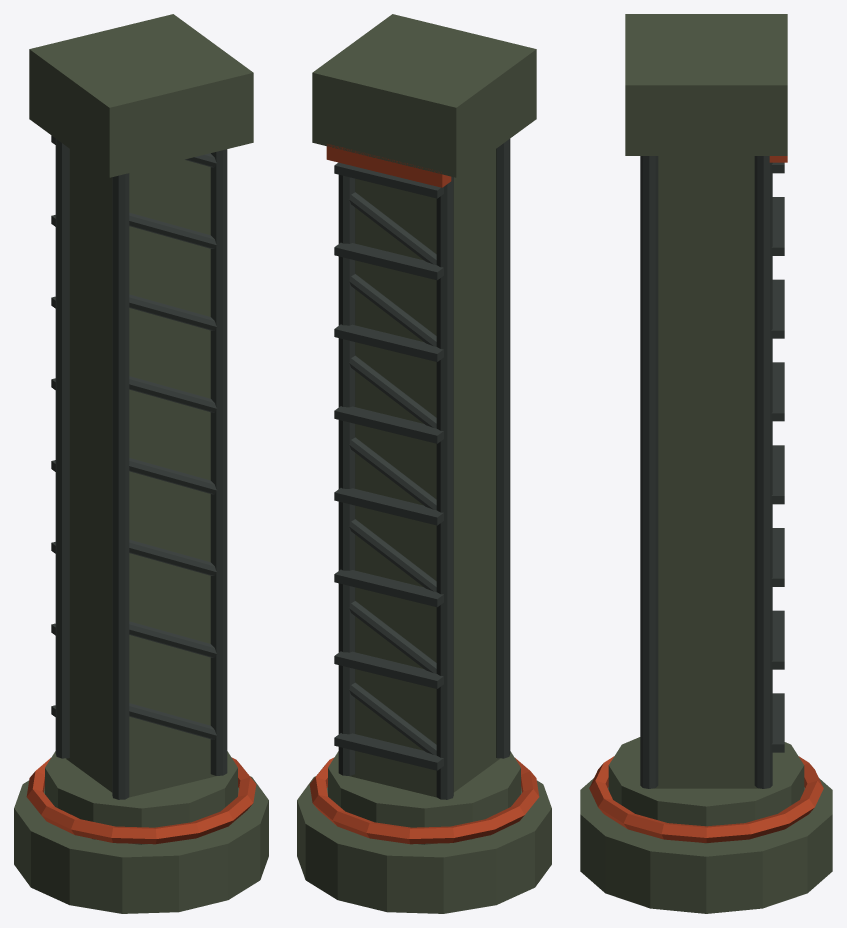
Rendered from Bastion_FabricationHub_CraneYaw.obj.
The picture shows the model from 3 angles, left to right: view 1: azimuth 30°, elevation 25°; view 2: azimuth 150°, elevation 25°; view 3: azimuth 270°, elevation 25°; orthographic projection.
Visible parts, largest first — view 1: Bastion_FabricationHub_CraneYaw; view 2: Bastion_FabricationHub_CraneYaw; view 3: Bastion_FabricationHub_CraneYaw.
Boxes of the visible parts, x1,y1,x2,y2 form: Bastion_FabricationHub_CraneYaw: (14, 14, 268, 913); Bastion_FabricationHub_CraneYaw: (297, 14, 551, 913); Bastion_FabricationHub_CraneYaw: (580, 14, 832, 913).
Bounding box in the file's own units: 1.72 × 5.94 × 1.68.
Materials: 1 (1 with a texture image).
